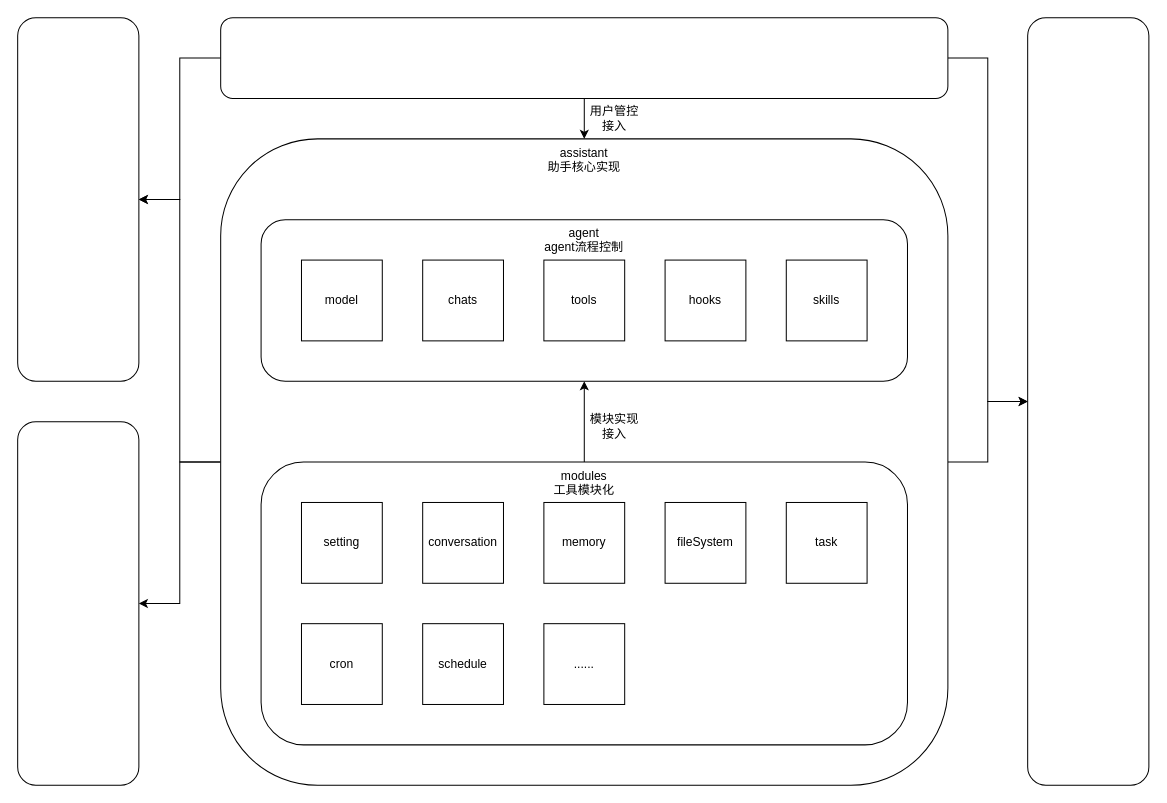
The diagram is 1167 pixels wide and 803 high, and some of its shapes have lost their labels. The shapes that lost their labels are listed below. From the top down, each one's centre as x and y in pixels, then its label:
At (584,57): "user 用户管理模块".
At (78,199): "storage 数据存储模块".
At (1088,401): "gateway 对外提供服务".
At (78,603): "provider 管理对外请求".
